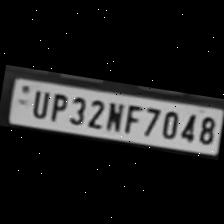0: (156, 106, 180, 140)
2: (84, 94, 106, 128)
3: (64, 92, 88, 125)
4: (176, 108, 200, 142)
7: (138, 102, 160, 136)
8: (193, 110, 218, 146)
F: (121, 100, 144, 134)
N: (101, 97, 126, 132)
P: (46, 88, 69, 121)
U: (26, 84, 52, 118)
